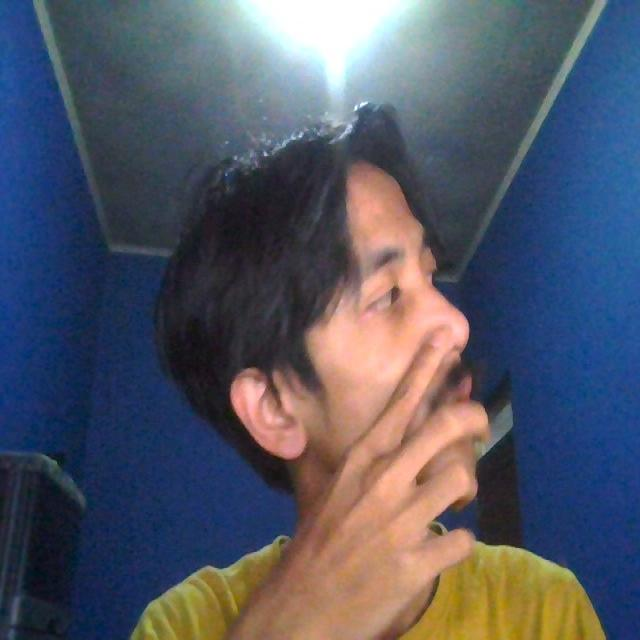movement: (230, 302, 499, 626)
